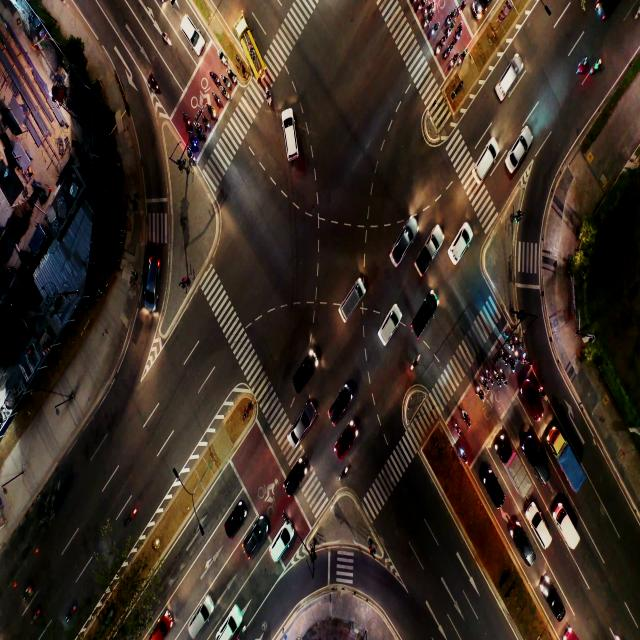bus: (250, 38, 255, 62)
car: (147, 267, 161, 293), (286, 119, 296, 152), (298, 362, 310, 387), (337, 390, 349, 415), (396, 238, 407, 260), (295, 422, 307, 442), (346, 290, 354, 317), (511, 140, 521, 161), (418, 310, 429, 329), (551, 594, 564, 608), (292, 469, 301, 489), (250, 533, 260, 551), (230, 516, 240, 533), (183, 28, 197, 40), (383, 322, 394, 336), (276, 536, 284, 552), (339, 438, 348, 452), (504, 74, 510, 92), (457, 239, 463, 256), (538, 456, 544, 472), (537, 524, 544, 537), (482, 154, 487, 172), (520, 544, 528, 555), (528, 399, 534, 411), (493, 484, 499, 496)
motorcycle: (594, 54, 603, 72), (458, 48, 468, 64), (578, 59, 586, 76), (410, 356, 418, 372), (476, 390, 485, 402), (458, 450, 467, 461), (266, 88, 271, 106), (185, 115, 190, 132), (212, 110, 220, 120), (210, 73, 218, 83), (511, 342, 519, 352), (188, 153, 194, 166), (519, 356, 526, 366), (342, 468, 348, 479), (206, 117, 210, 133), (214, 97, 222, 105), (431, 24, 439, 32), (450, 57, 459, 64), (191, 136, 197, 146), (223, 56, 229, 66), (465, 413, 469, 428), (201, 127, 205, 141), (416, 2, 422, 11), (222, 91, 228, 99), (488, 373, 493, 382), (497, 377, 502, 385), (511, 363, 516, 371), (425, 16, 430, 24), (456, 429, 460, 437), (504, 377, 508, 385), (503, 354, 507, 362), (446, 47, 449, 57), (458, 28, 461, 38), (451, 20, 454, 30), (450, 11, 455, 17), (224, 79, 228, 86), (230, 75, 234, 81), (427, 6, 431, 11), (484, 380, 486, 388), (462, 4, 464, 12), (440, 41, 442, 48)
truck: (424, 237, 438, 262), (565, 452, 573, 473), (561, 518, 570, 534), (512, 459, 518, 478)
